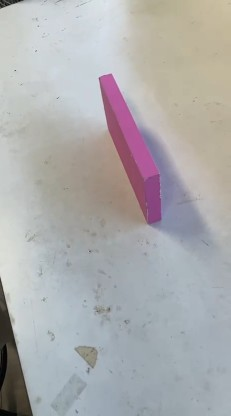pink: (87, 61, 184, 236)
